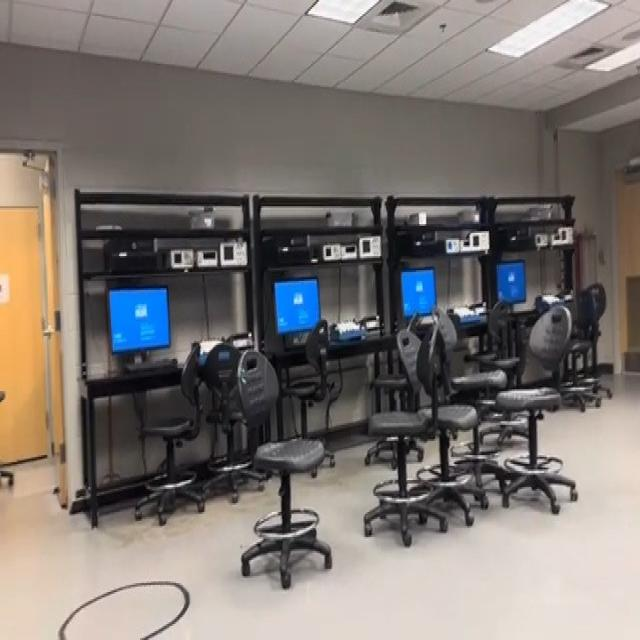drone: (222, 349, 256, 408)
